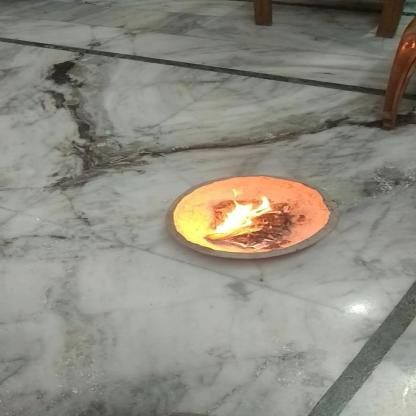fire: (206, 189, 274, 237)
